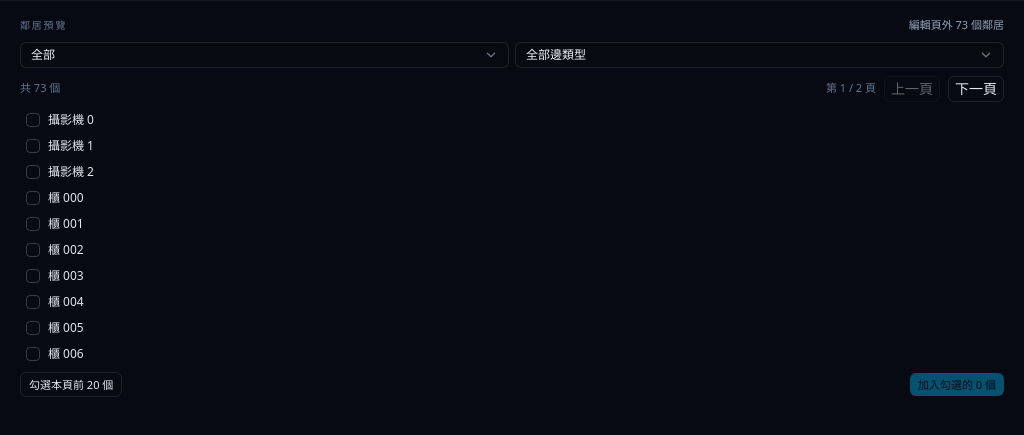
Test: NeighborPicker 一跳鄰居預覽 › 明確「勾選本頁前 20 個」後才預覽；按加入原子提交並顯示新增節點與邊數
Step 1. Click the button "勾選本頁前 20 個" → (71, 384), box [20, 372, 122, 397]
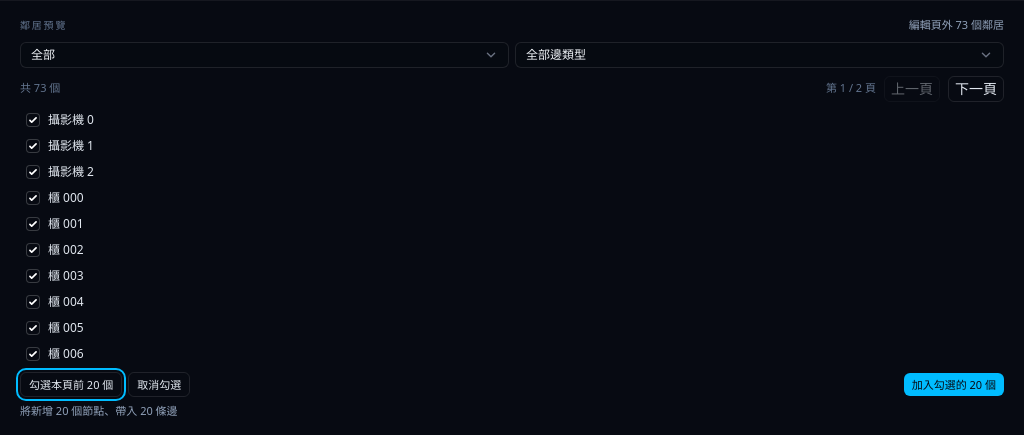
Expected: the text "將新增 20 個節點、帶入 20 條邊" is shown, [20, 403, 178, 418]
Step 2. Click the button "加入勾選的 20 個" → (954, 384), box [904, 372, 1004, 396]
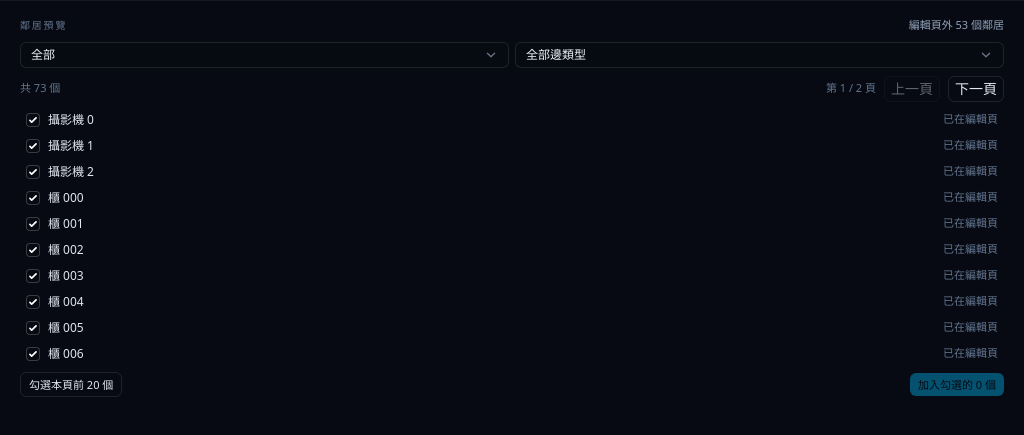
Expected: the checkbox labelled "攝影機 0 已在編輯頁" is disabled, [26, 112, 40, 126]
Expected: the text "編輯頁外 53 個鄰居" is shown, [909, 17, 1004, 34]
